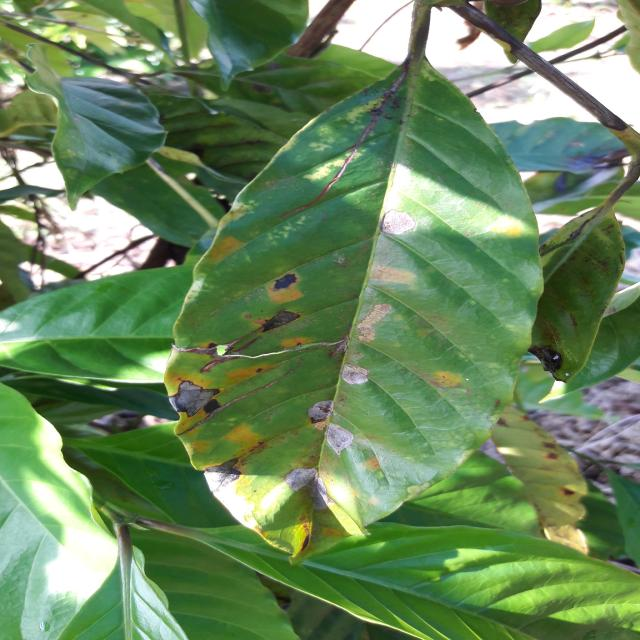Enfermedad-Roya: (162, 20, 546, 566)
